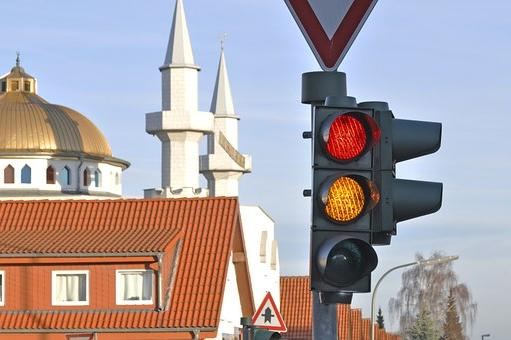trafic: (312, 107, 370, 292)
